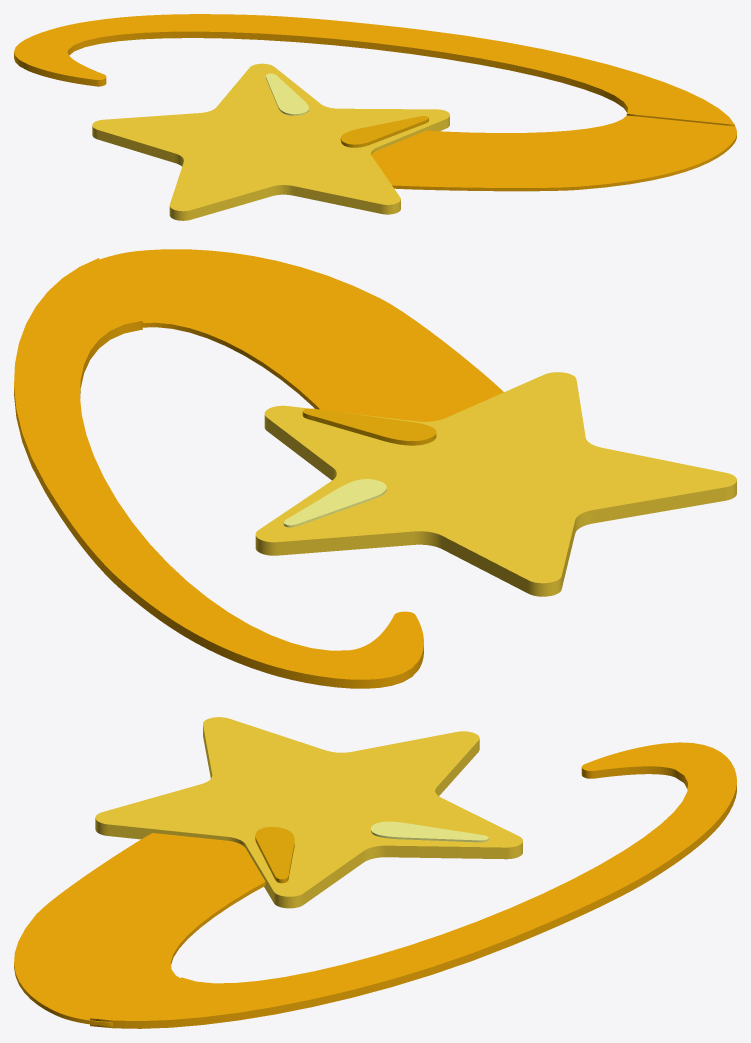
File: emoji_u1f4ab.glb
The picture shows the model from 3 angles, top to bottom: view 1: azimuth 30°, elevation 25°; view 2: azimuth 150°, elevation 25°; view 3: azimuth 270°, elevation 25°; orthographic projection. The views are drawn at different scales.
Visible parts, largest first — view 1: emoji_u1f4ab; view 2: emoji_u1f4ab; view 3: emoji_u1f4ab.
Part boxes in pixels (bbox=[...]): emoji_u1f4ab: bbox=[14, 14, 736, 220]; emoji_u1f4ab: bbox=[14, 249, 736, 688]; emoji_u1f4ab: bbox=[14, 717, 736, 1028].
Size of the model in its own units: 0.0334 by 0.001 by 0.0338.
